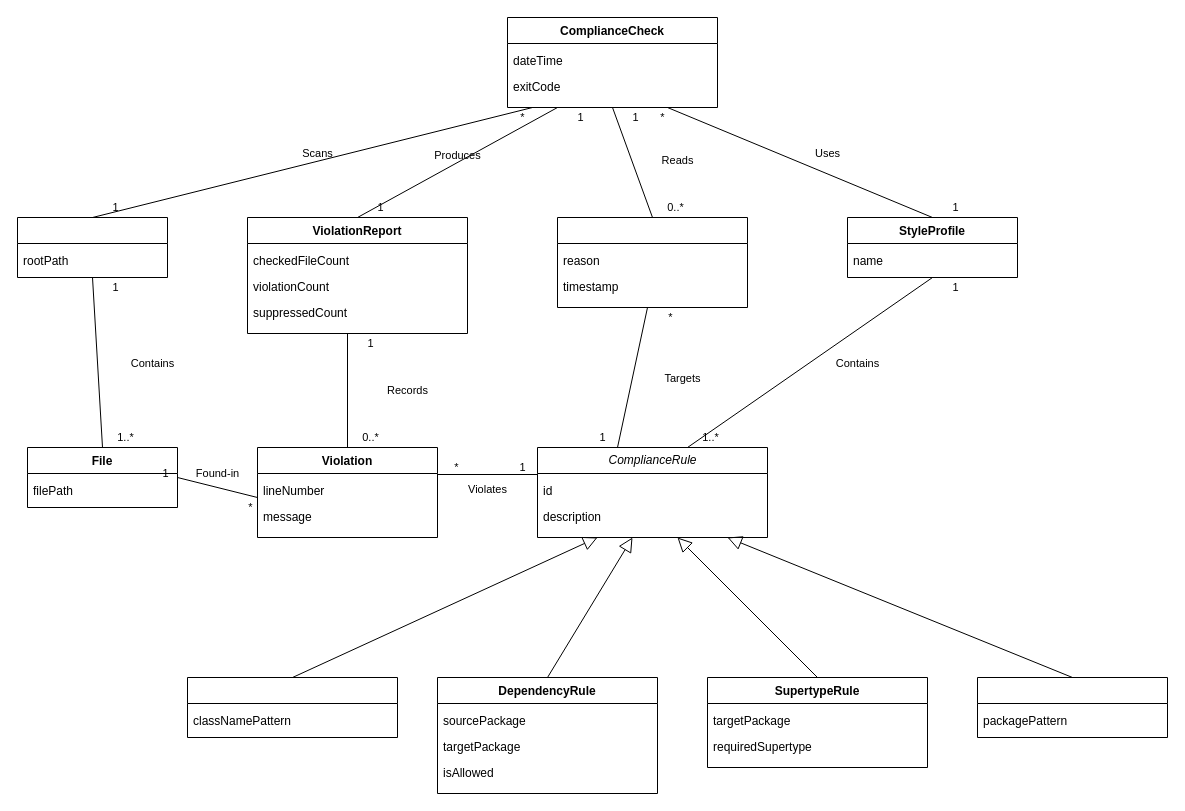
This 1185x811 diagram has some shape labels left out. The box of each missing label's shape, as (x1, y1, x2, y2) in pixels:
NamingRule: (186, 676, 398, 738)
PackageRule: (976, 676, 1168, 738)
Project: (16, 216, 168, 278)
Suppression: (556, 216, 748, 308)
